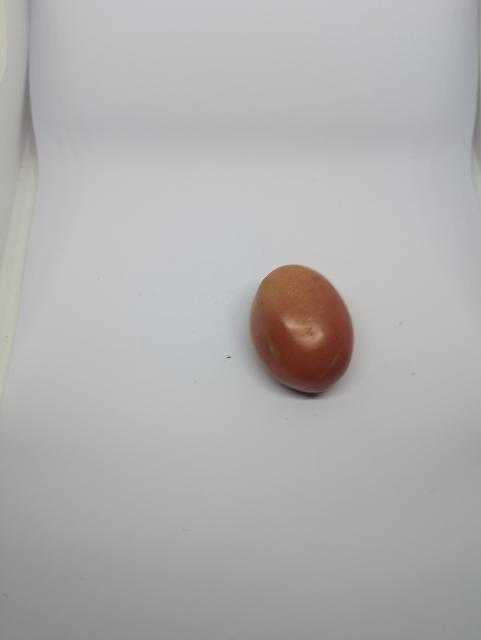red: (244, 261, 369, 407)
